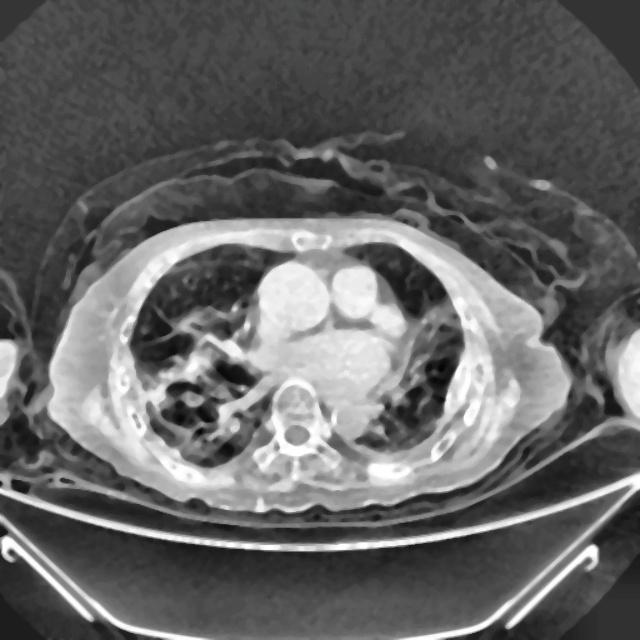covid: (44, 212, 574, 518)
